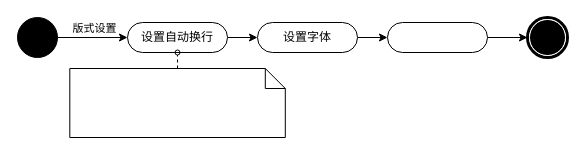
Some shapes in this 585 by 155 pixel diagram are drawn without their labels. Each missing label, with the centre of its shape:
"设置字号" belongs at [437,37].
"采用将文本转化为HTML文本的方式，并通过设置换行标准确保在单词间换行" belongs at [177,103].
